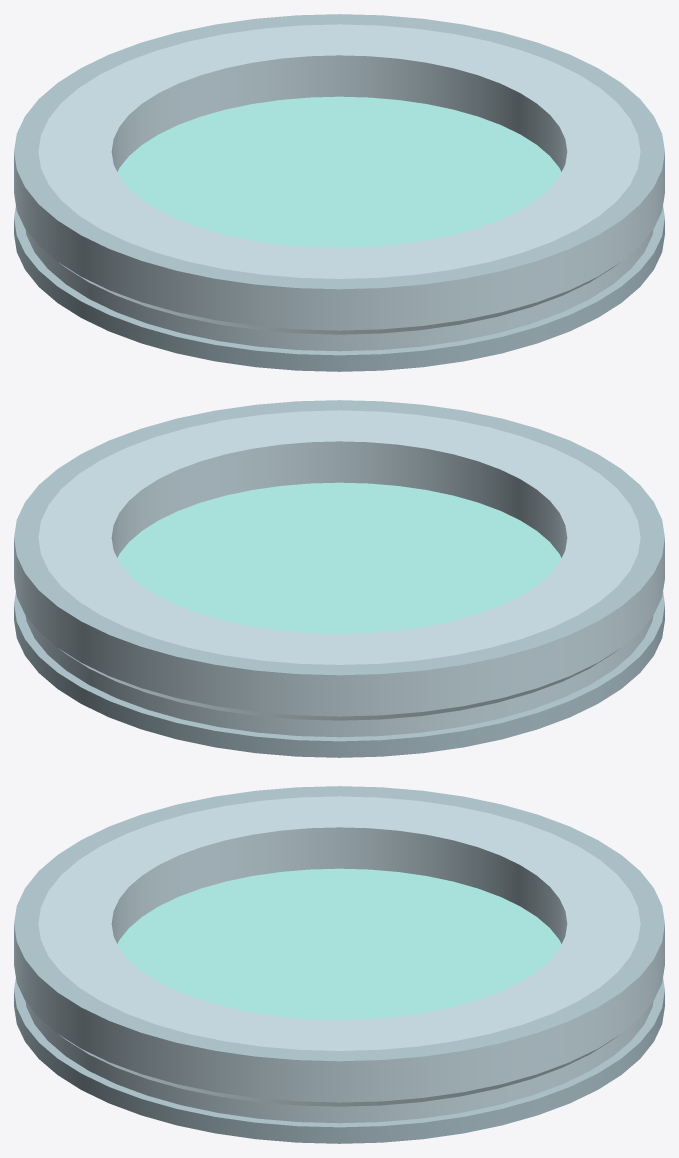
The picture shows the model from 3 angles, top to bottom: view 1: azimuth 30°, elevation 25°; view 2: azimuth 150°, elevation 25°; view 3: azimuth 270°, elevation 25°; orthographic projection.
Parts seen in each view (by area): view 1: fountainRound; view 2: fountainRound; view 3: fountainRound.
Boxes of the visible parts, x1,y1,x2,y2 form: fountainRound: [14, 14, 664, 371]; fountainRound: [14, 400, 664, 757]; fountainRound: [14, 786, 664, 1143].
Size of the model in its own units: 2 by 0.28 by 2.
